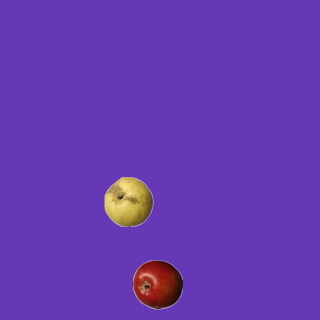Apple Braeburn: (132, 259, 182, 309)
Apple Golden 1: (103, 176, 153, 226)
